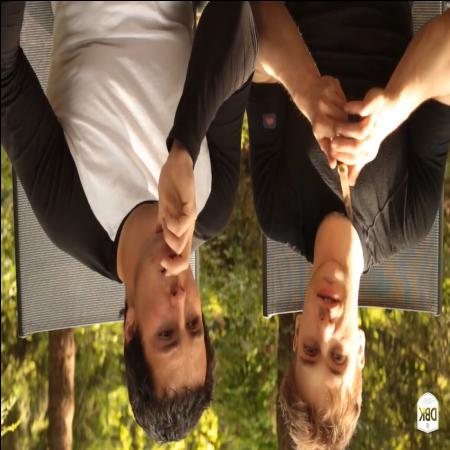long weapon: (318, 72, 361, 238)
